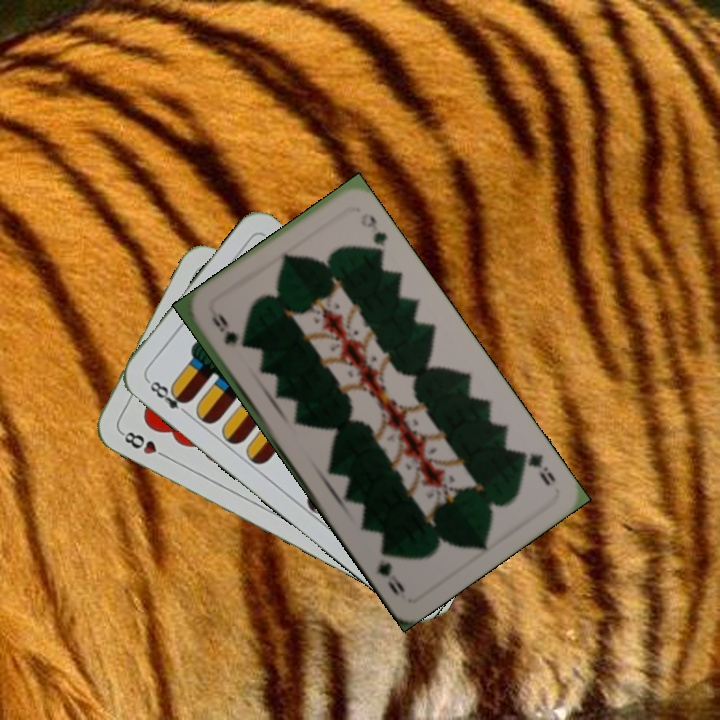E8: (143, 375, 192, 418)
G9: (513, 446, 559, 488), (207, 311, 240, 347)
H8: (117, 427, 172, 461)
